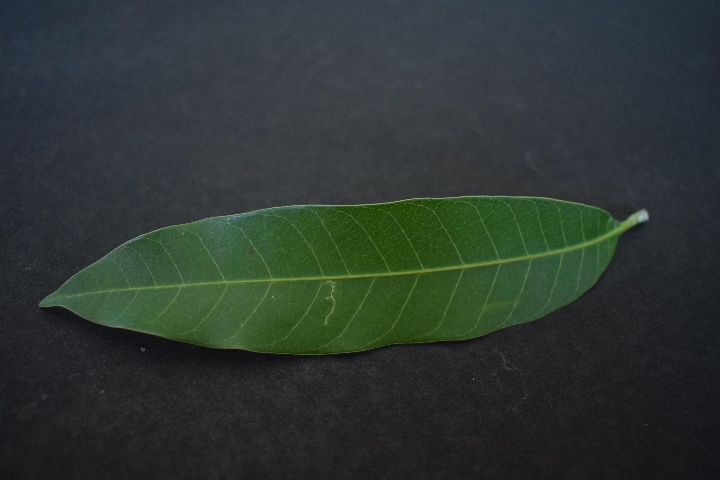healthy: (45, 195, 625, 354)
